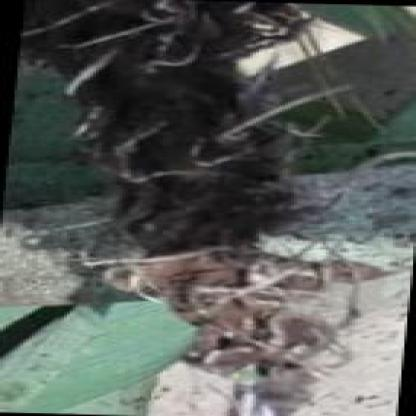Wheat Smut: (65, 47, 230, 88), (106, 93, 258, 130), (203, 298, 289, 362), (150, 2, 281, 40), (113, 134, 260, 167), (124, 205, 238, 240), (31, 6, 141, 42), (130, 264, 281, 289), (134, 172, 239, 198), (141, 245, 247, 259), (253, 175, 279, 226)
